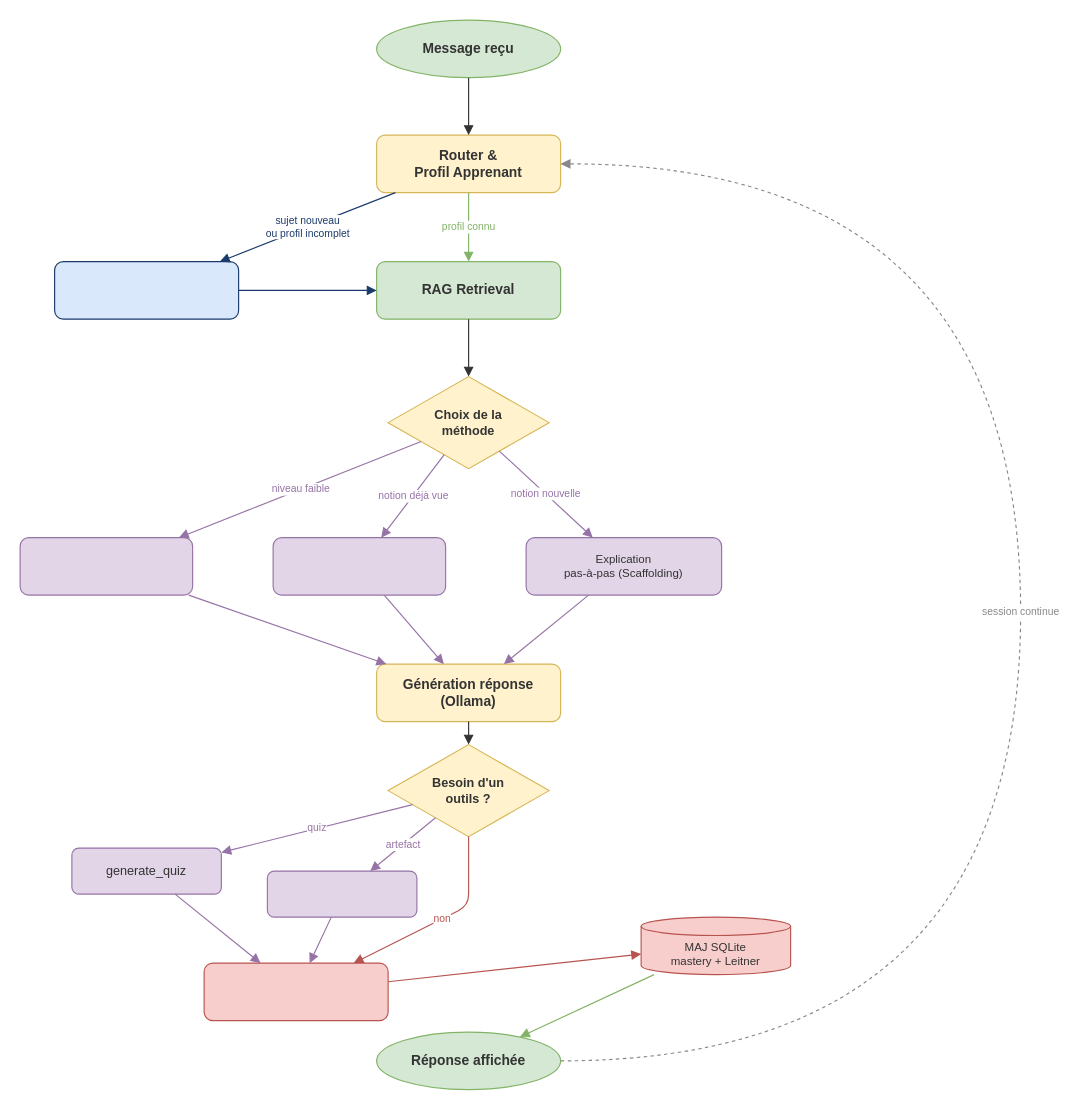
Image size: 1079x1110. Some labels were removed from this diagram. Here are the shapes that lost their labels. From the top down, the box of each, then its label:
(53, 260, 239, 319): Diagnostic auto
(19, 536, 193, 595): Questionnement Socratique
(272, 536, 446, 595): Restitution Feynman
(266, 870, 417, 917): create_artifact
(203, 962, 388, 1021): Évaluation & Mémoire
